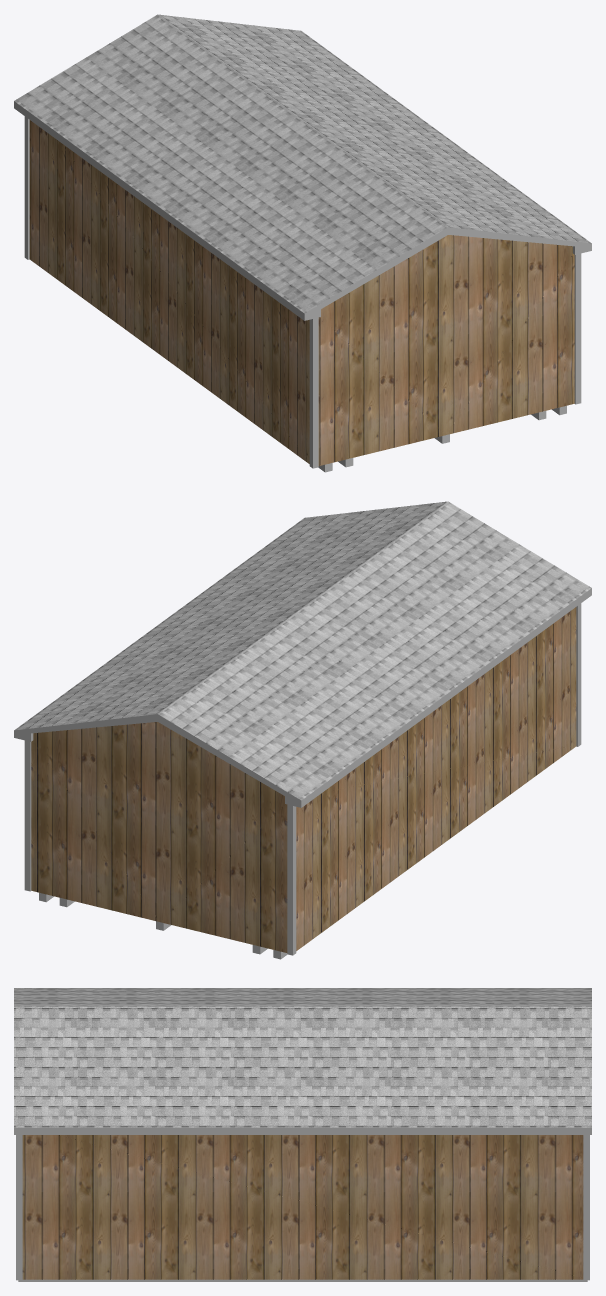
Rendered from A-frame_12x22.obj.
3 renders of one model, top to bottom at view 1: azimuth 30°, elevation 25°; view 2: azimuth 150°, elevation 25°; view 3: azimuth 270°, elevation 25°, orthographic.
Parts seen in each view (by area): view 1: Shed, Roof, Sides, Trim; view 2: Shed, Roof, Sides, Trim; view 3: Shed, Roof, Sides, Trim, Floor.
Part boxes in pixels (x1,y1,x2,y2): Shed: (29, 120, 574, 465); Roof: (14, 14, 591, 313); Sides: (14, 101, 591, 320); Trim: (24, 116, 581, 468); Shed: (31, 607, 576, 952); Roof: (14, 501, 591, 800); Sides: (14, 588, 591, 807); Trim: (24, 603, 581, 955); Shed: (22, 1135, 583, 1279); Roof: (14, 988, 591, 1127); Sides: (14, 1127, 591, 1134); Trim: (16, 1135, 589, 1280); Floor: (18, 1279, 587, 1281).
Size of the model in its own units: 3.89 by 2.81 by 6.81.
